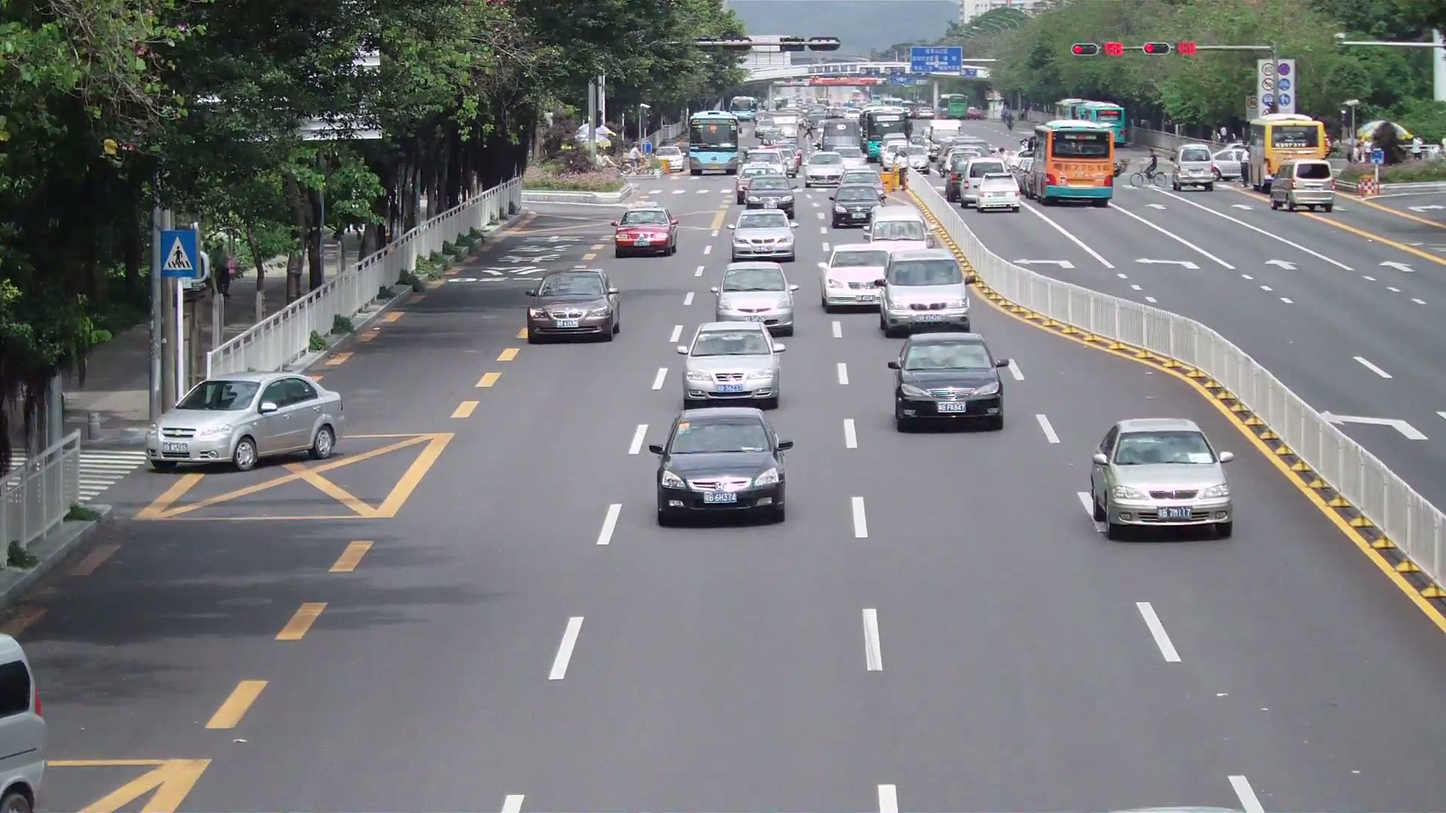bus: (1035, 118, 1118, 206), (1048, 99, 1127, 149)
car: (145, 372, 345, 472), (1080, 415, 1235, 542), (646, 409, 787, 528), (887, 332, 1020, 433), (680, 319, 782, 409), (0, 630, 49, 810), (877, 247, 972, 337), (525, 268, 620, 343), (715, 260, 796, 337), (821, 243, 893, 312), (1270, 158, 1336, 212), (731, 208, 797, 261), (613, 205, 678, 257), (960, 162, 1021, 213), (1173, 144, 1216, 192)
truck: (1038, 120, 1115, 207), (1244, 114, 1331, 189), (1269, 158, 1336, 213), (1172, 143, 1217, 192)
